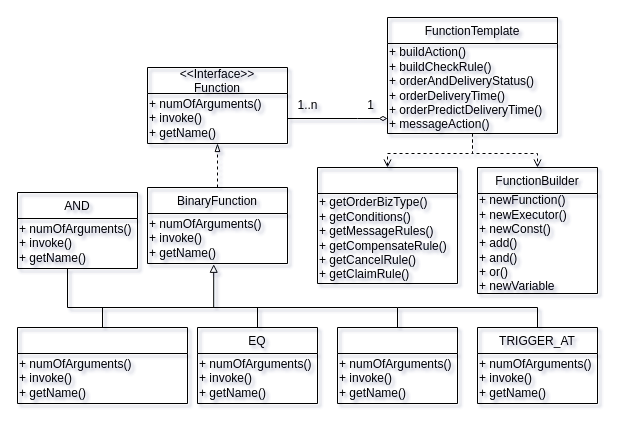
Image size: 621x427. Some labels were removed from this diagram. Each missing label, with the box of its shape:
LT: (336, 326, 458, 404)
ORDER_DELIVERY_STATUS: (16, 326, 188, 404)
SceneRuleConfigDto: (316, 166, 458, 284)
